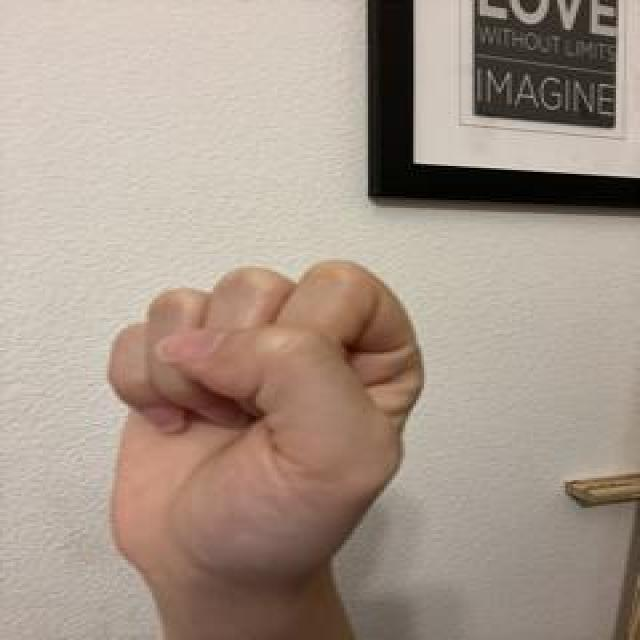S: (96, 253, 435, 603)
